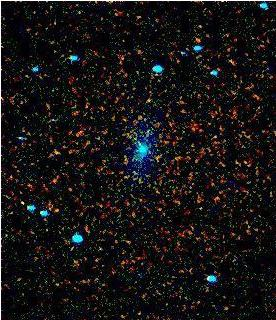star: (42, 194, 72, 224)
